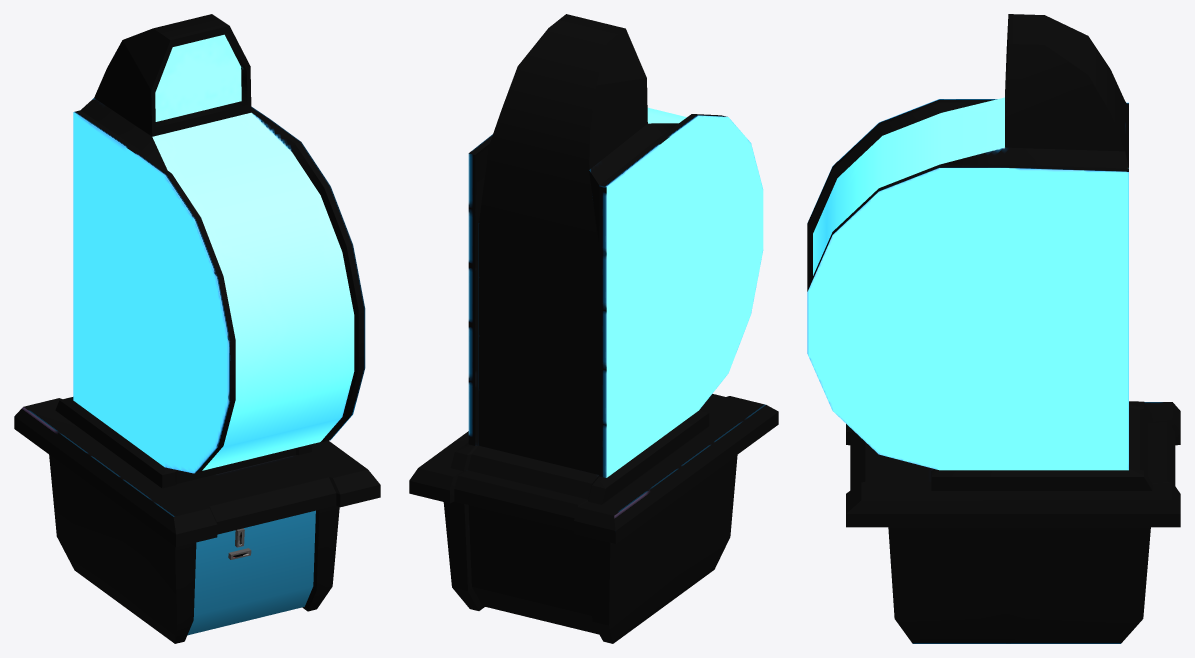
File: SLOTS.fbx
3 views of the same model, side by side, from view 1: azimuth 30°, elevation 25°; view 2: azimuth 150°, elevation 25°; view 3: azimuth 270°, elevation 25° (orthographic). The views are drawn at different scales.
Visible parts, largest first — view 1: Cylinder.009, Cylinder.007; view 2: Cylinder.007, Cylinder.009; view 3: Cylinder.009, Cylinder.007.
Part boxes in pixels (x1,y1,x2,y2): Cylinder.009: [73, 112, 354, 473]; Cylinder.007: [14, 14, 380, 643]; Cylinder.007: [409, 14, 778, 643]; Cylinder.009: [606, 107, 763, 477]; Cylinder.009: [807, 97, 1128, 470]; Cylinder.007: [807, 14, 1180, 643].
Size of the model in its own units: 192 by 126 by 329.
